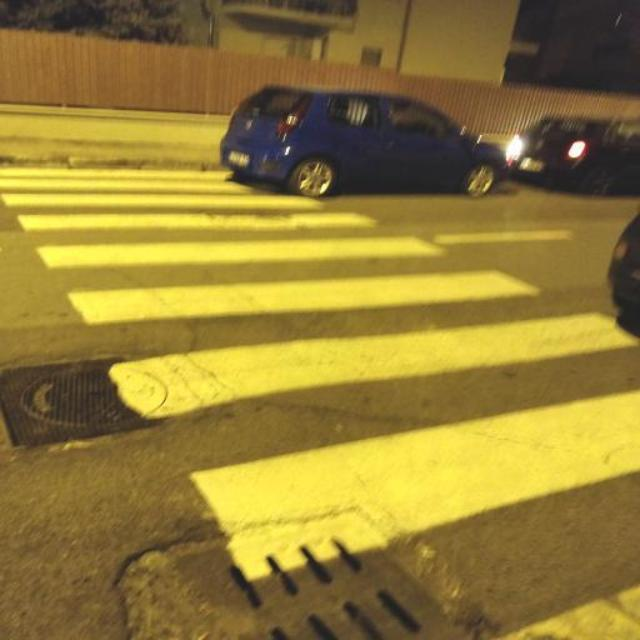sidewalk: (8, 194, 639, 640)
